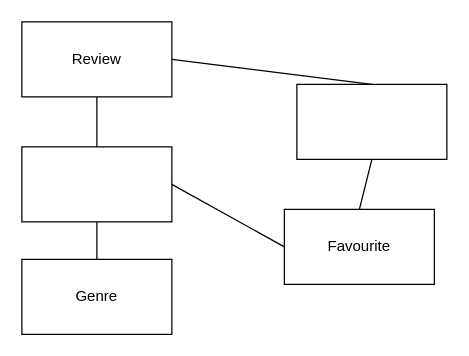
Some shapes in this 469 by 356 pixel diagram are drawn without their labels. Here are the shapes that lost their labels. From the top down, the box of each, then its label:
(296, 83, 447, 159): User
(21, 146, 172, 222): Movie
